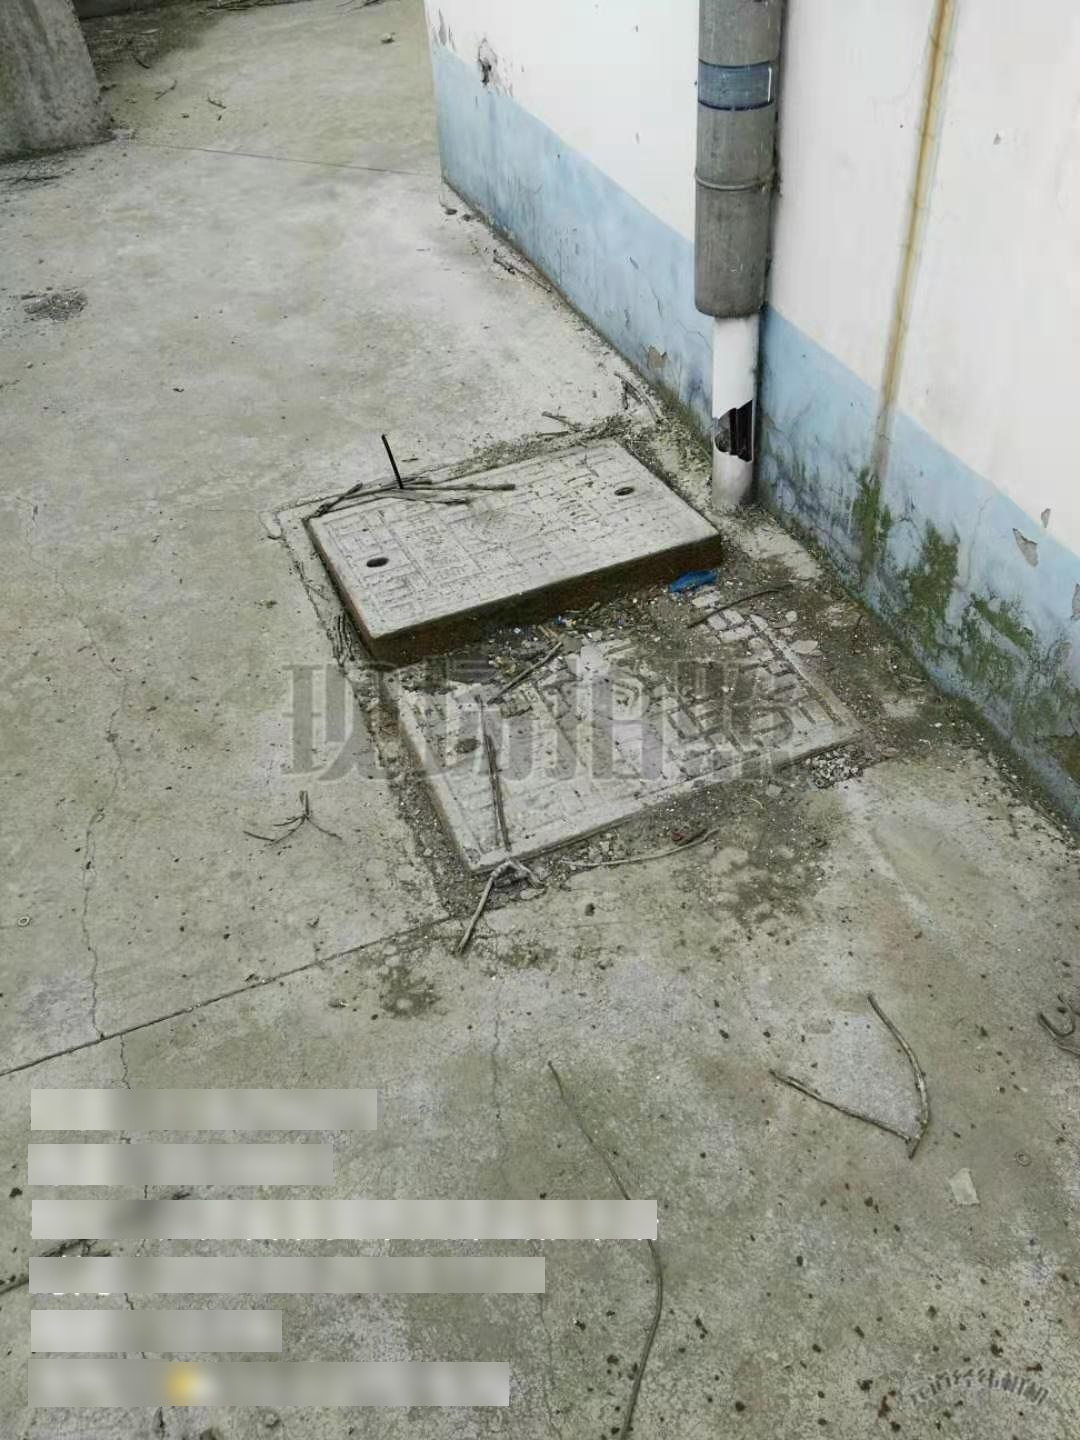well: (279, 424, 751, 681)
